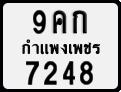letters: (72, 9, 87, 35), (25, 60, 40, 86), (44, 60, 58, 86), (53, 9, 67, 34), (62, 60, 76, 85), (33, 9, 46, 35), (80, 60, 93, 85)
province: (21, 38, 101, 55)
